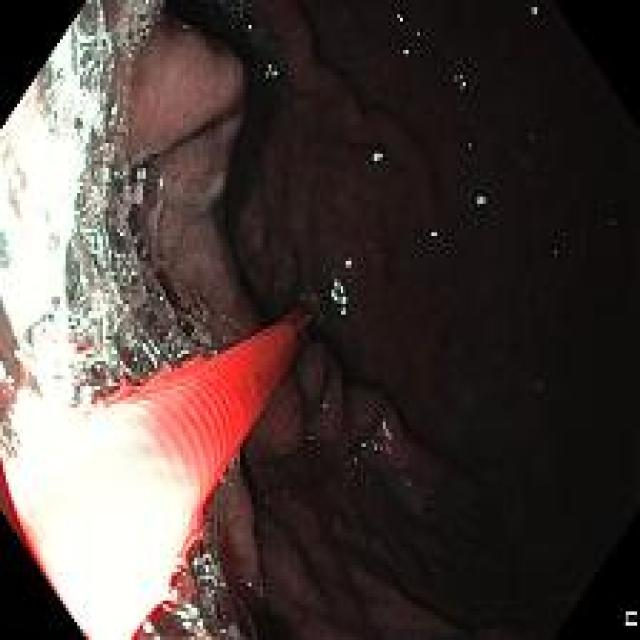bubbles: (67, 71, 139, 390), (146, 540, 256, 636), (122, 159, 165, 386), (157, 261, 220, 365), (116, 1, 153, 66), (229, 0, 265, 50), (345, 440, 374, 485), (448, 64, 471, 97), (410, 492, 435, 515), (141, 1, 169, 19), (275, 83, 292, 104), (338, 139, 355, 154)
color misalignment: (625, 611, 638, 626)
contrast: (448, 6, 637, 635)
instrument: (1, 304, 318, 640)
saturation: (2, 397, 196, 636), (1, 14, 103, 460)
specularity: (330, 278, 348, 316), (452, 72, 466, 89), (265, 63, 278, 79), (381, 421, 391, 441), (372, 149, 384, 165), (108, 102, 118, 120), (474, 195, 485, 208), (156, 176, 165, 191), (137, 167, 146, 182), (394, 13, 404, 24), (530, 6, 539, 17), (429, 228, 438, 238), (402, 46, 410, 57), (343, 260, 354, 268), (372, 444, 383, 452), (247, 23, 252, 32), (359, 443, 366, 449)
